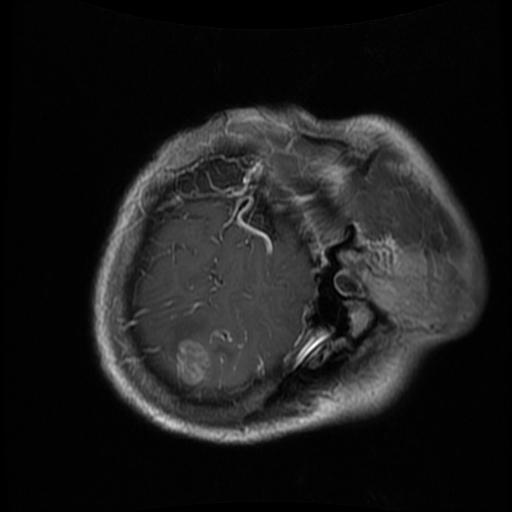glioma: (175, 338, 209, 385)
